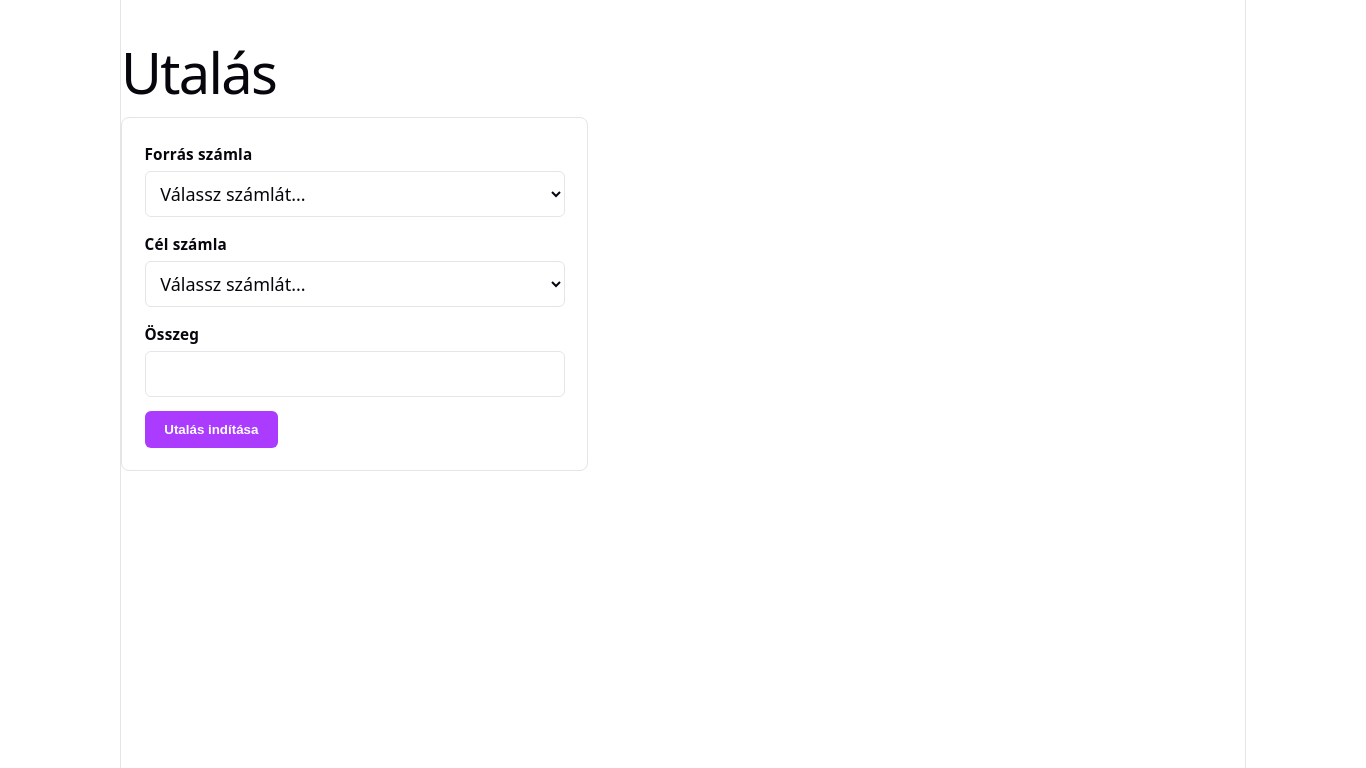
it: TransferPage › rejects submission when no accounts are selected
This screenshot has width=1366, height=768.
Click the button "Utalás indítása" at x=211, y=429, box [144,411,278,448]
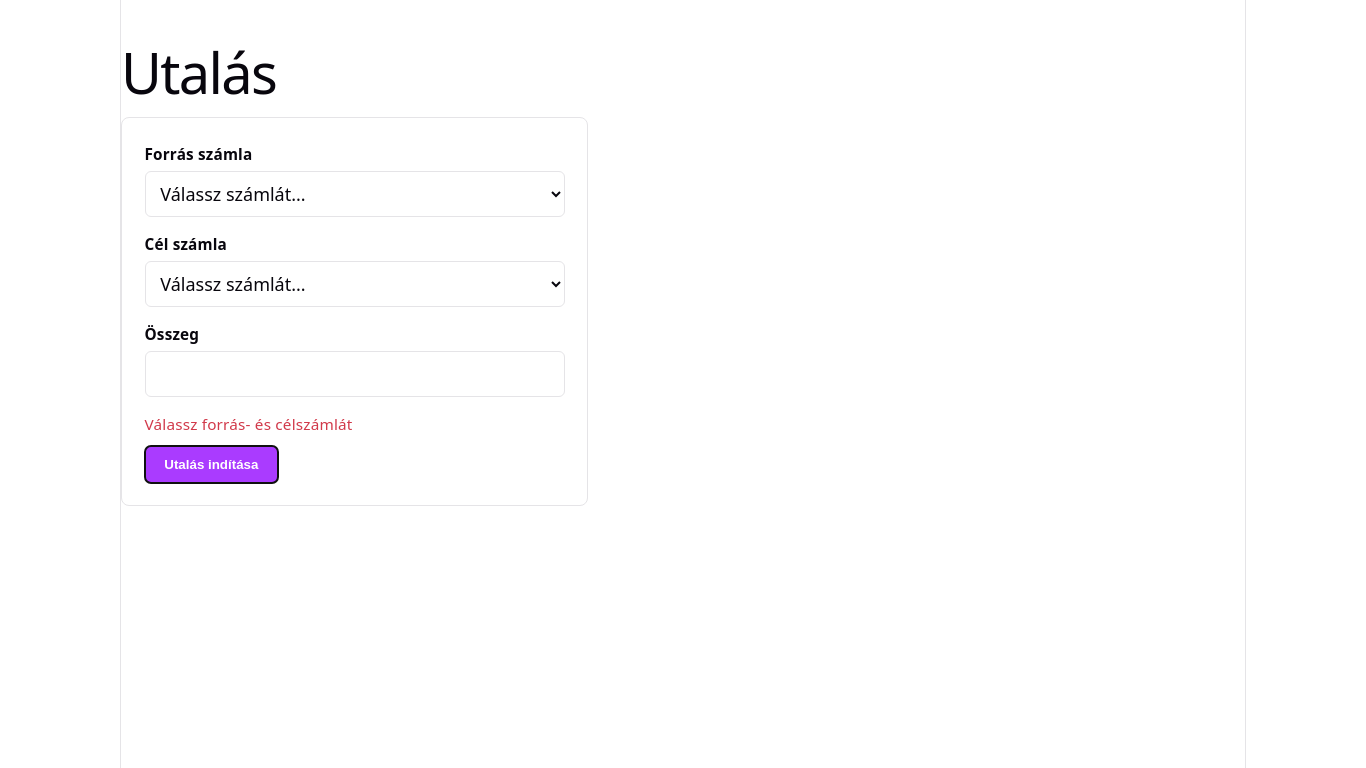
Check: the text "Válassz forrás- és célszámlát" is shown, box [144,414,352,434]
